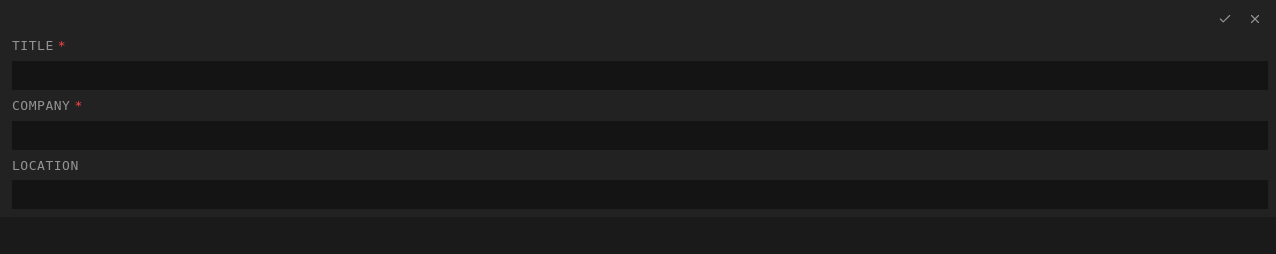
Test case: EntryForm › shows zod error messages on submit
The image size is (1276, 254).
Click the button named "save": (1225, 19) top-left (1212, 8), bottom-right (1238, 30)
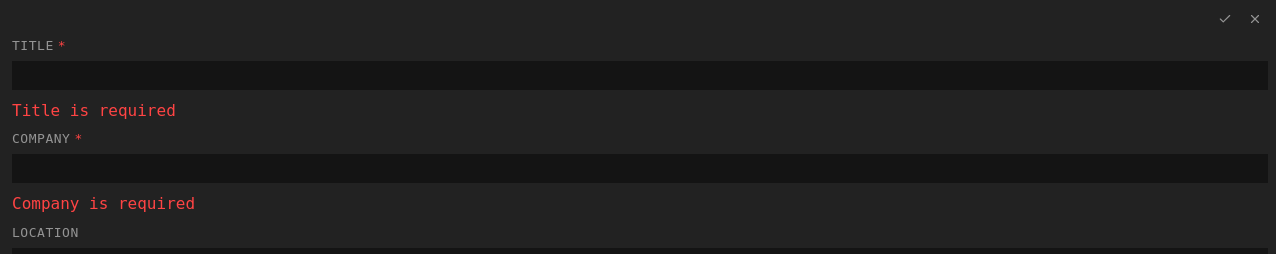
Result: the text "Title is required" is shown at top-left (12, 101), bottom-right (176, 120)
Result: the text "Company is required" is shown at top-left (12, 194), bottom-right (195, 213)
